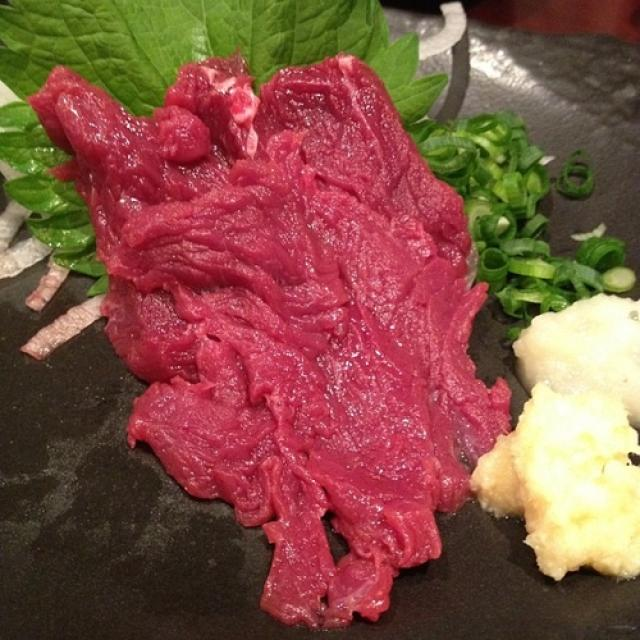刺身生食: (5, 3, 638, 631)
